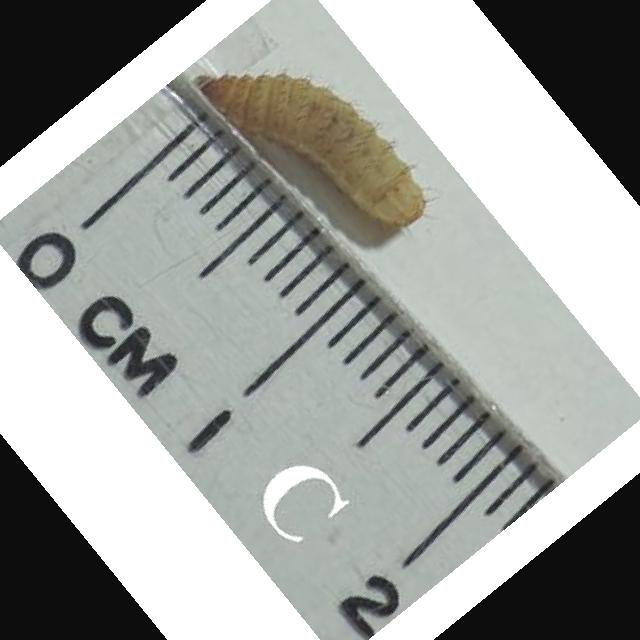Maggot: (195, 65, 429, 226)
